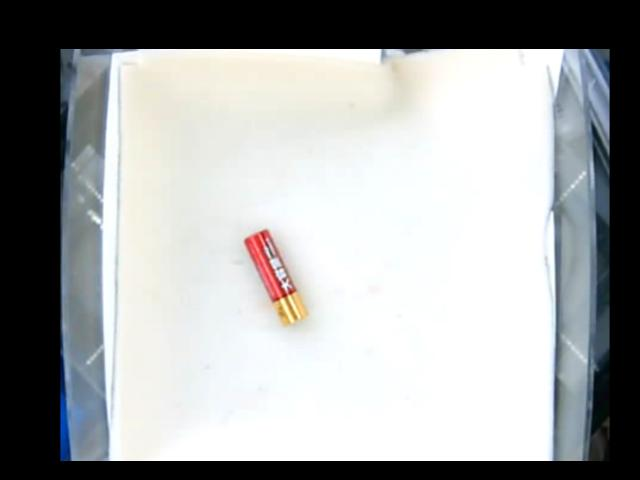Battery: (242, 227, 305, 321)
